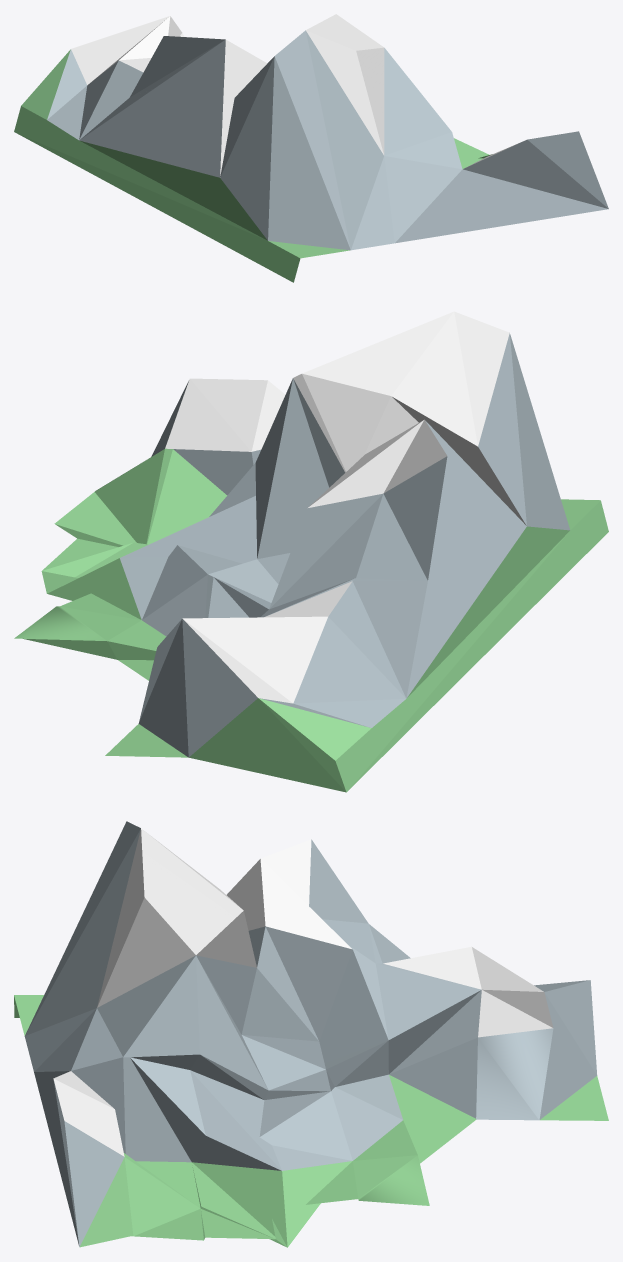
File: mountain.gltf
The picture shows the model from 3 angles, top to bottom: view 1: azimuth 30°, elevation 25°; view 2: azimuth 150°, elevation 25°; view 3: azimuth 270°, elevation 25°; orthographic projection. The views are drawn at different scales.
Parts seen in each view (by area): view 1: model; view 2: model; view 3: model.
Boxes of the visible parts, x1,y1,x2,y2 form: model: (14,14,608,282); model: (14,311,608,792); model: (14,821,608,1247).
Size of the model in its own units: 0.8933 by 0.5198 by 1.02.
